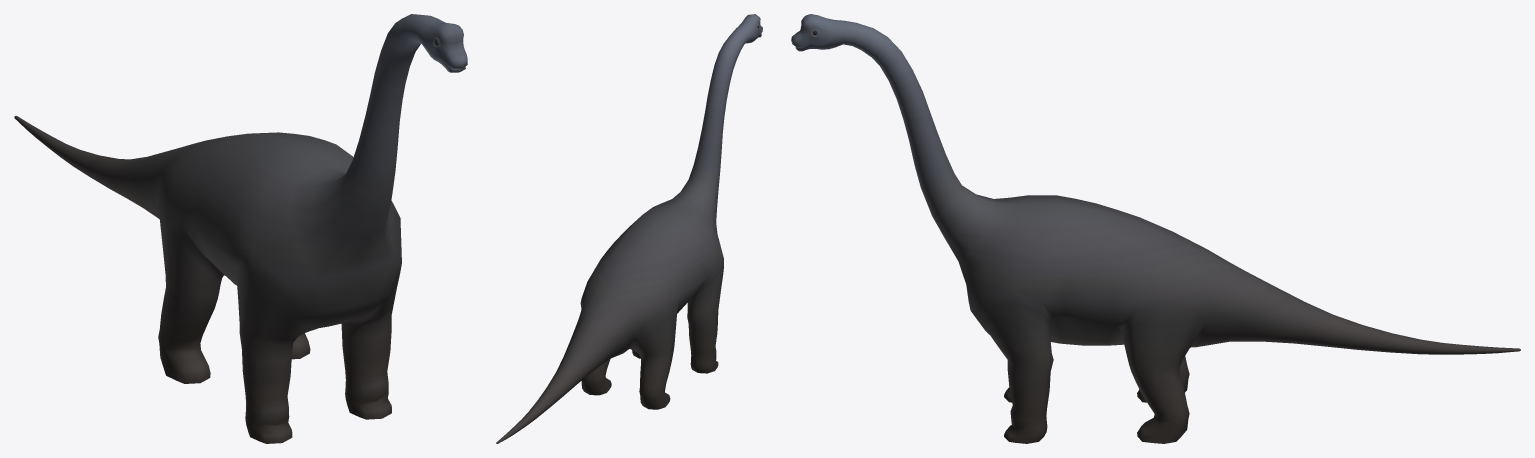
3 views of the same model, side by side, from view 1: azimuth 30°, elevation 25°; view 2: azimuth 150°, elevation 25°; view 3: azimuth 270°, elevation 25° (orthographic). The views are drawn at different scales.
Visible parts, largest first — view 1: Sauropodo_Sauropodo_0; view 2: Sauropodo_Sauropodo_0; view 3: Sauropodo_Sauropodo_0.
Part boxes in pixels (bbox=[...]): Sauropodo_Sauropodo_0: bbox=[14, 14, 467, 443]; Sauropodo_Sauropodo_0: bbox=[496, 14, 762, 443]; Sauropodo_Sauropodo_0: bbox=[791, 14, 1520, 443].
Size of the model in its own units: 1.91 by 5.69 by 9.36.
Materials: 1 (1 with a texture image).
